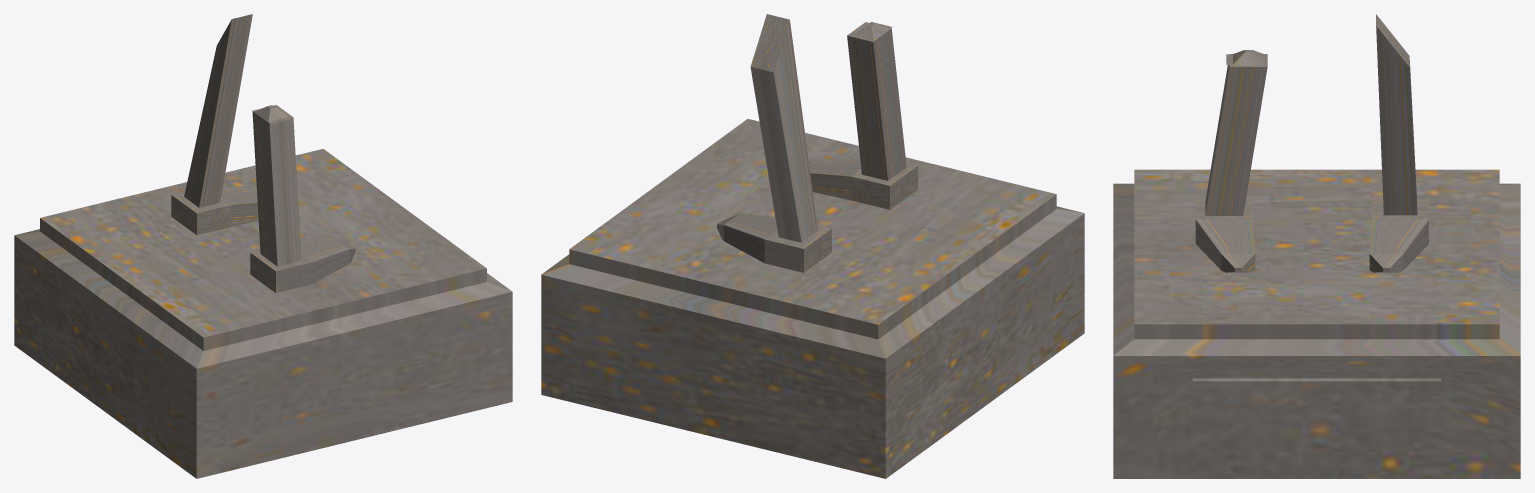
The model's file is statue.fbx.
3 renders of one model, left to right at view 1: azimuth 30°, elevation 25°; view 2: azimuth 150°, elevation 25°; view 3: azimuth 270°, elevation 25°, orthographic. The views are drawn at different scales.
Parts seen in each view (by area): view 1: Cube, Cube.001; view 2: Cube, Cube.001; view 3: Cube, Cube.001.
Part boxes in pixels (<box>): Cube: <box>14,149,512,478</box>; Cube.001: <box>171,14,355,292</box>; Cube: <box>541,119,1084,478</box>; Cube.001: <box>717,14,917,272</box>; Cube: <box>1113,169,1520,478</box>; Cube.001: <box>1195,14,1428,272</box>.
Bounding box in the file's own units: 305 × 305 × 300.
